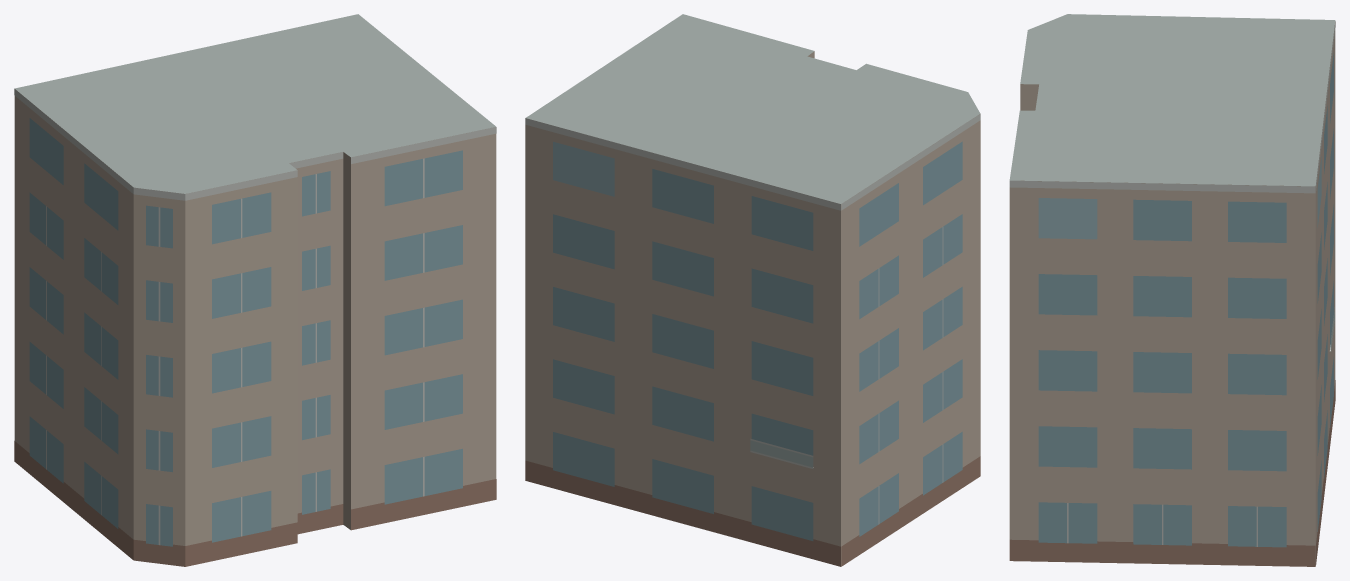
The model's file is survey-upis-32947687.glb.
The picture shows the model from 3 angles, left to right: view 1: azimuth 30°, elevation 25°; view 2: azimuth 150°, elevation 25°; view 3: azimuth 270°, elevation 25°; orthographic projection. The views are drawn at different scales.
Parts seen in each view (by area): view 1: survey-upis-32947687.tmp; view 2: survey-upis-32947687.tmp; view 3: survey-upis-32947687.tmp.
Part boxes in pixels (x1,y1,x2,y2): survey-upis-32947687.tmp: (14, 14, 496, 566); survey-upis-32947687.tmp: (525, 14, 980, 566); survey-upis-32947687.tmp: (1009, 14, 1335, 566).
Size of the model in its own units: 12.93 by 13.3 by 10.33.
